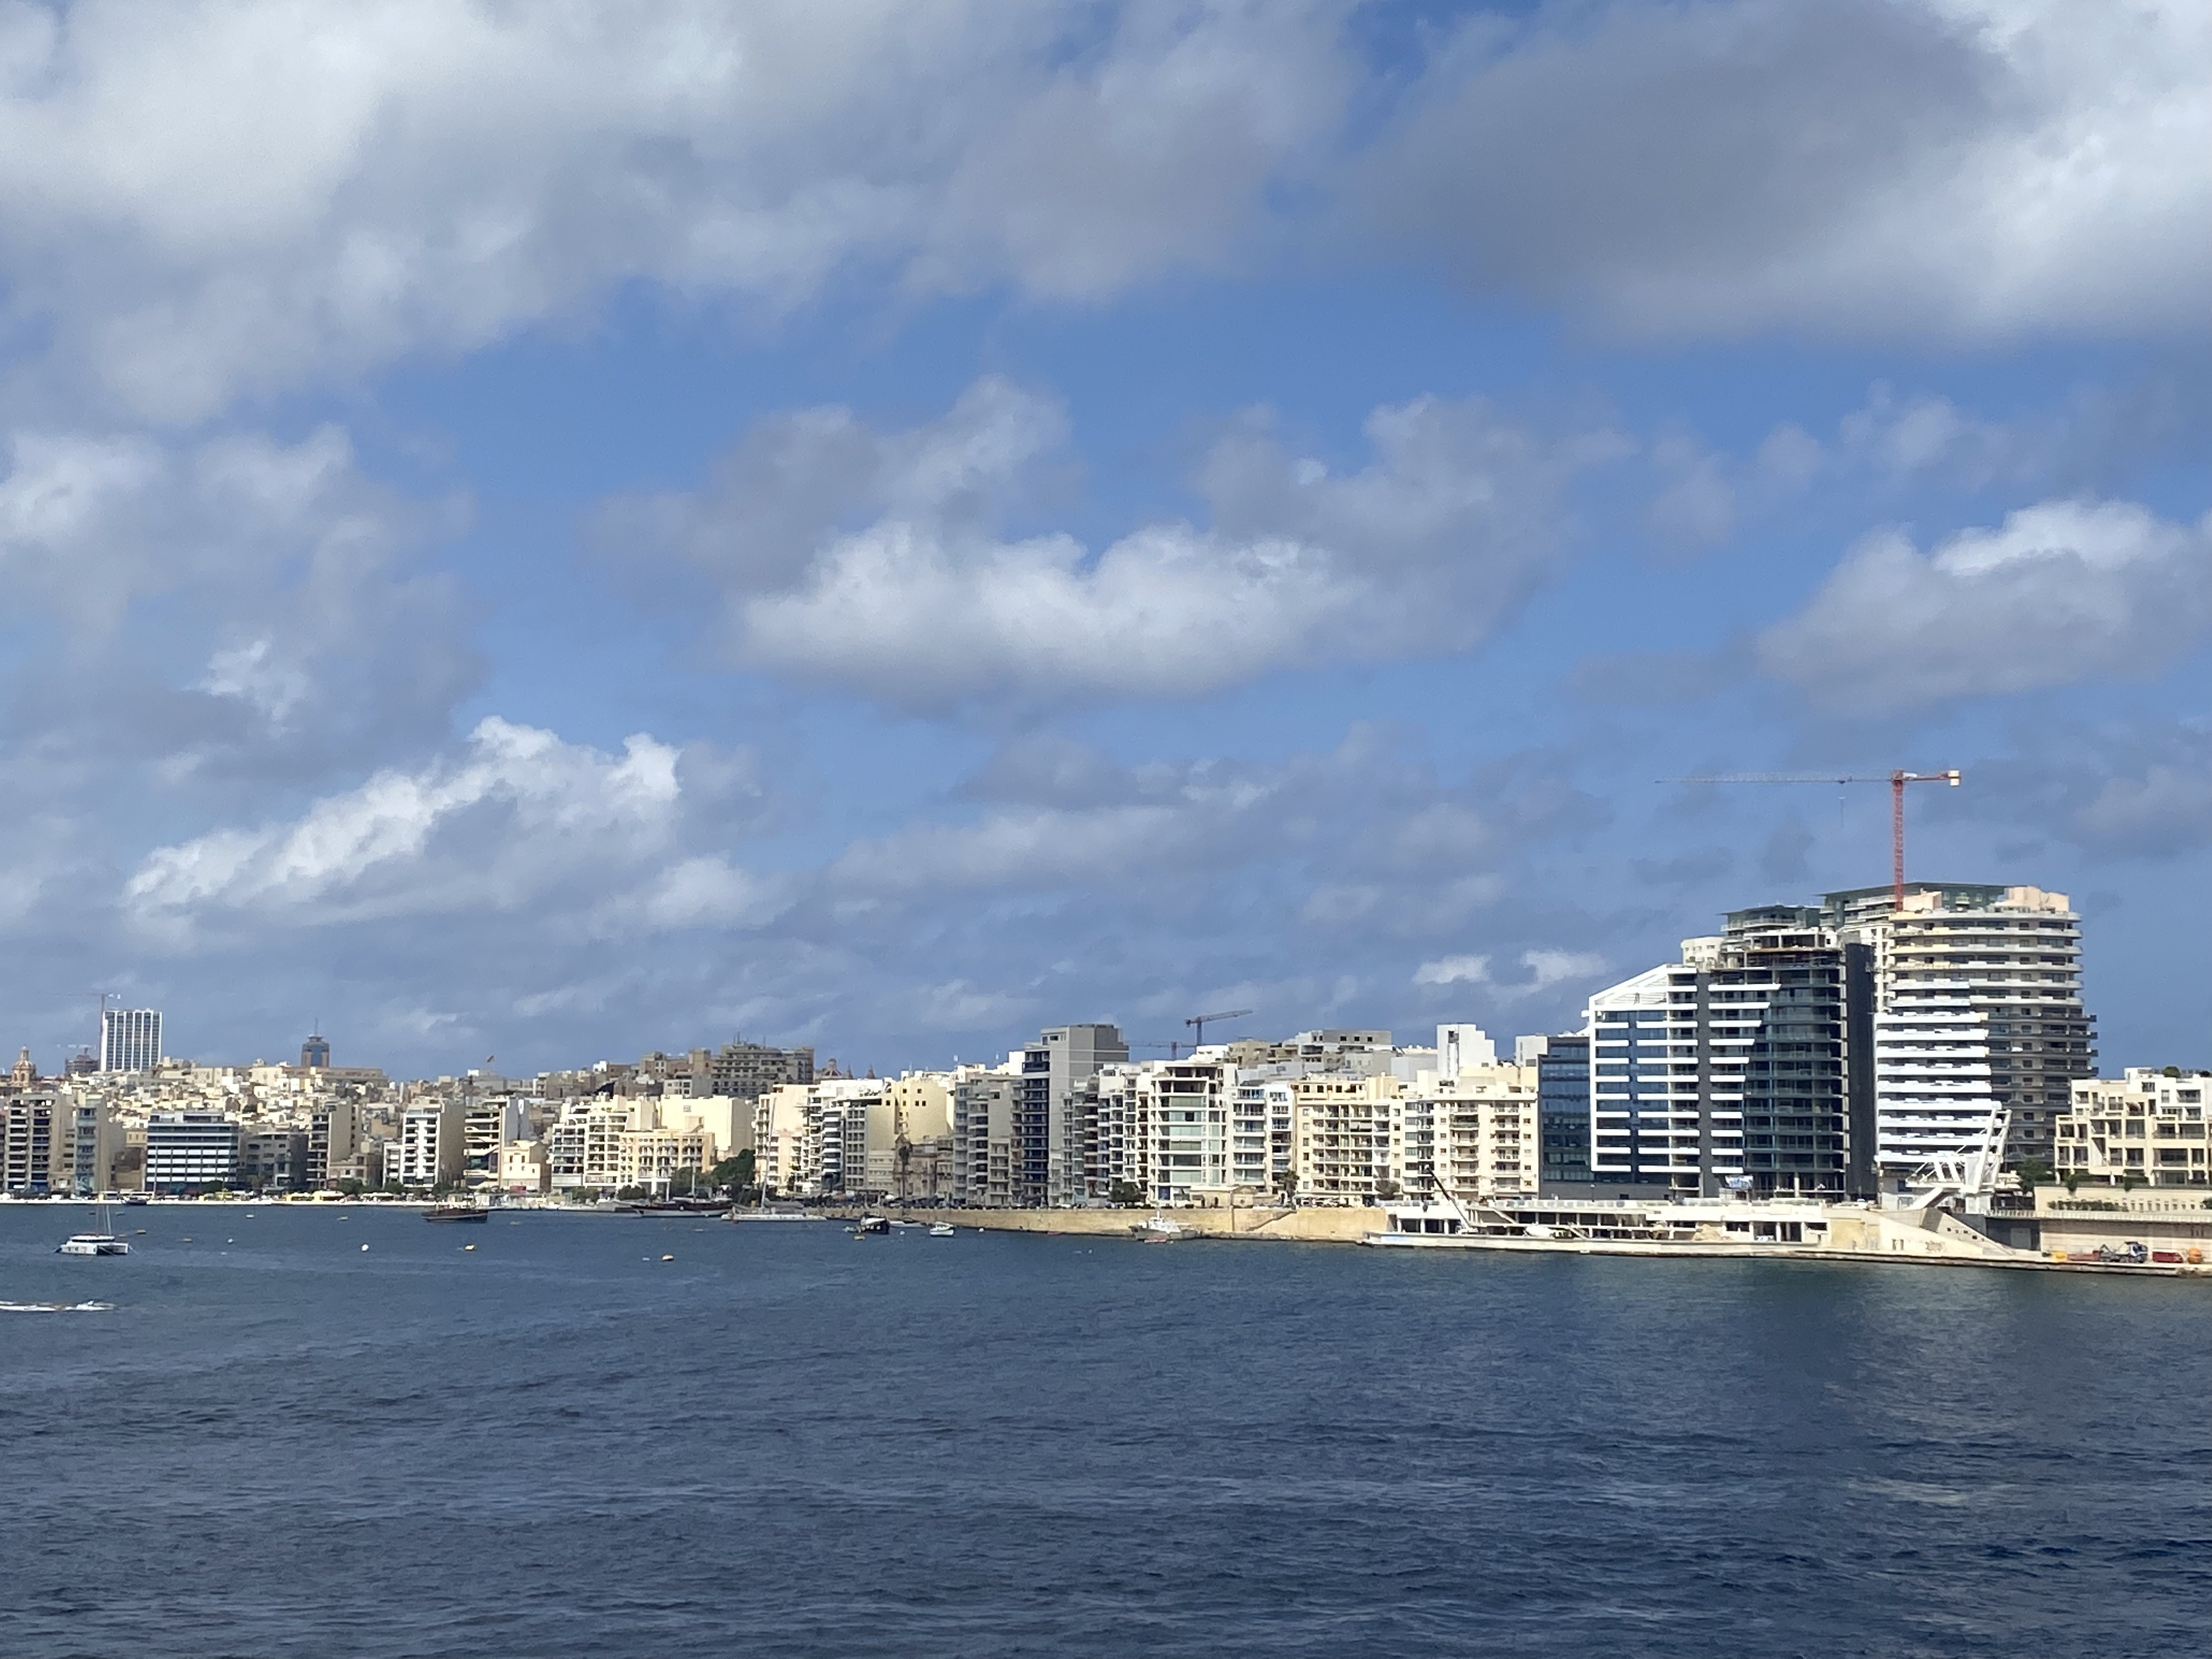crane: (1635, 735, 2015, 877)
